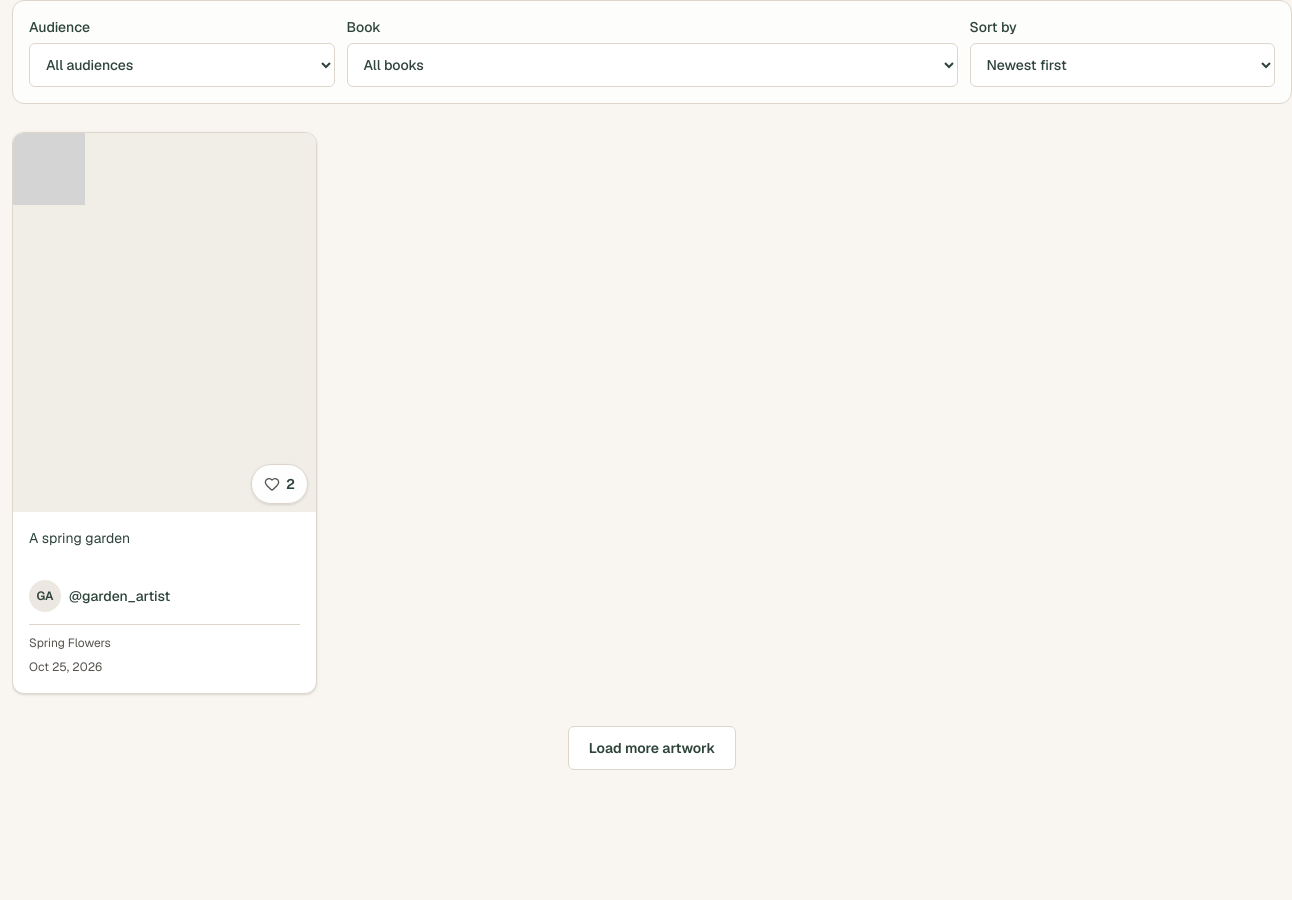
Scenario: public Coloring Club gallery › ignores a late load-more response after filters change
Click the button with test id "community-gallery-load-more".
click(652, 748)  # box [568,726,736,770]
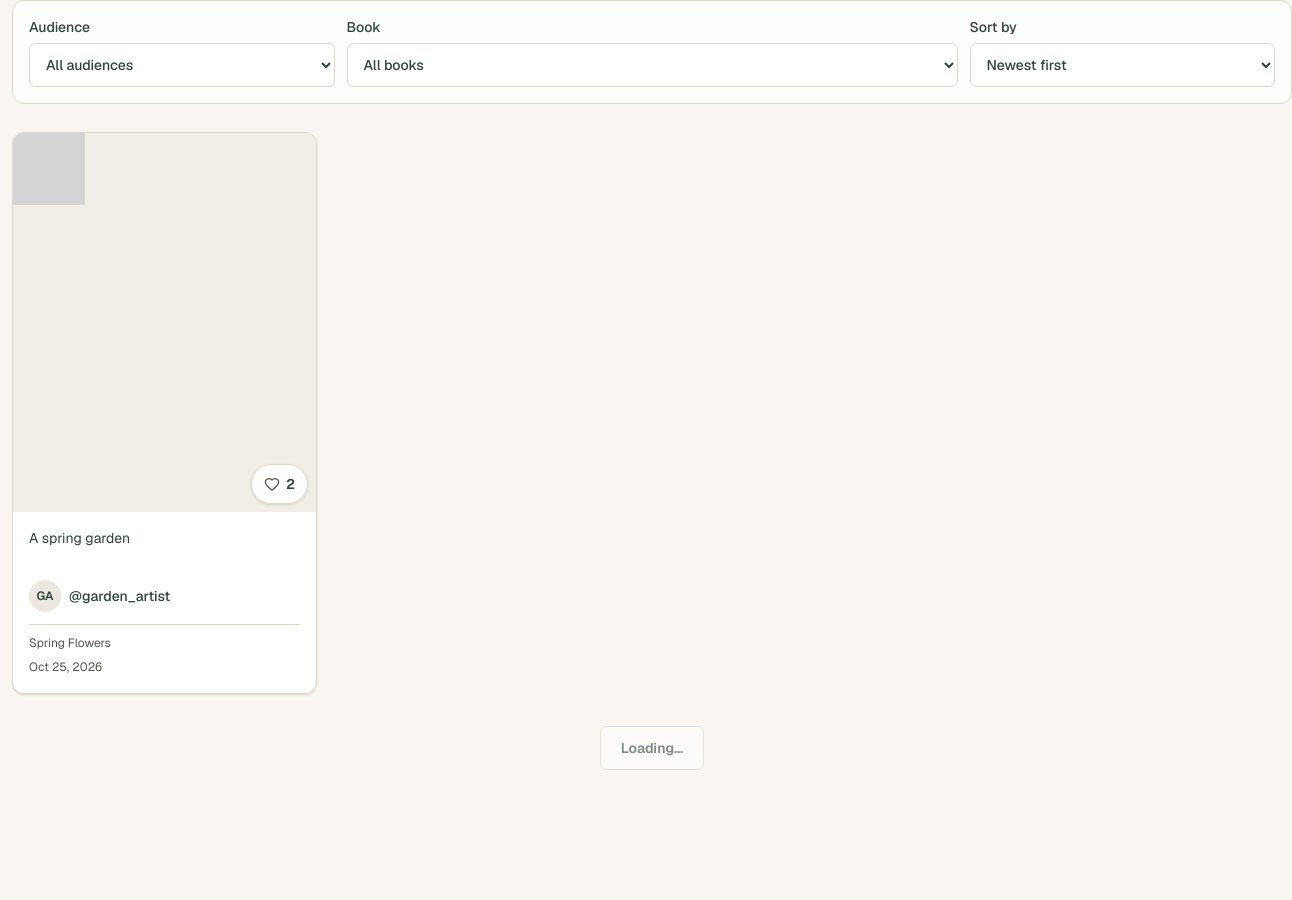
Select "Kids" in the dropdown with test id "community-gallery-audience-filter" at (182, 65), box [29,43,334,87]
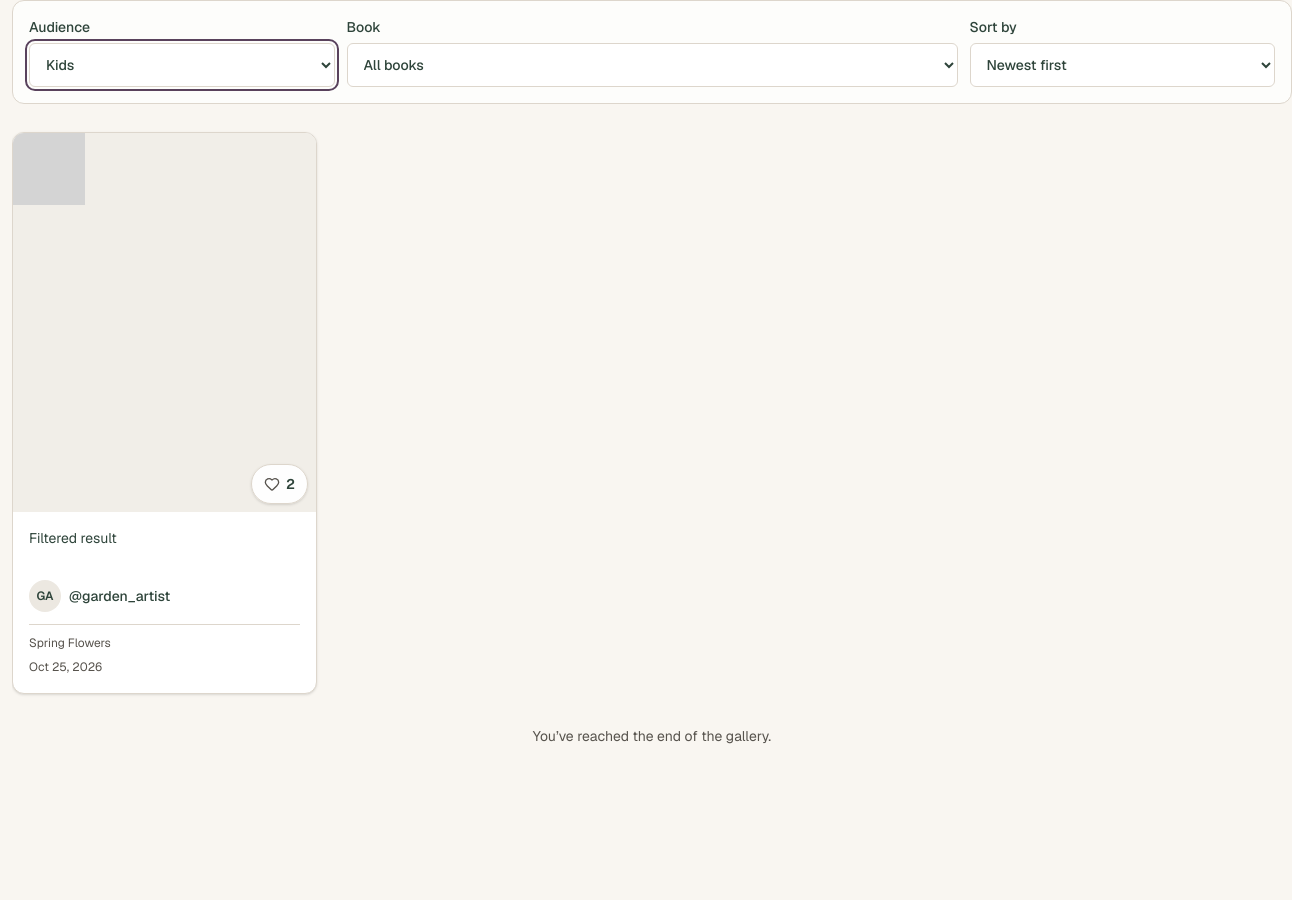
Expected: the text "Filtered result" is shown, [29,529,117,547]
